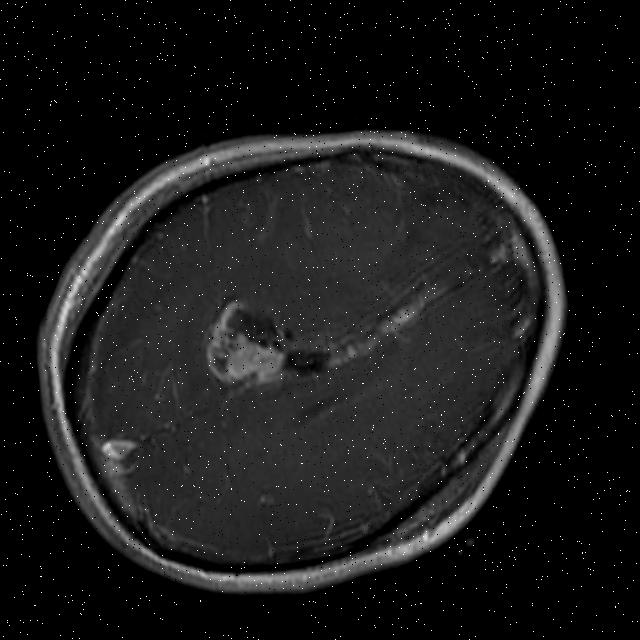Glioma: (190, 277, 338, 404)
